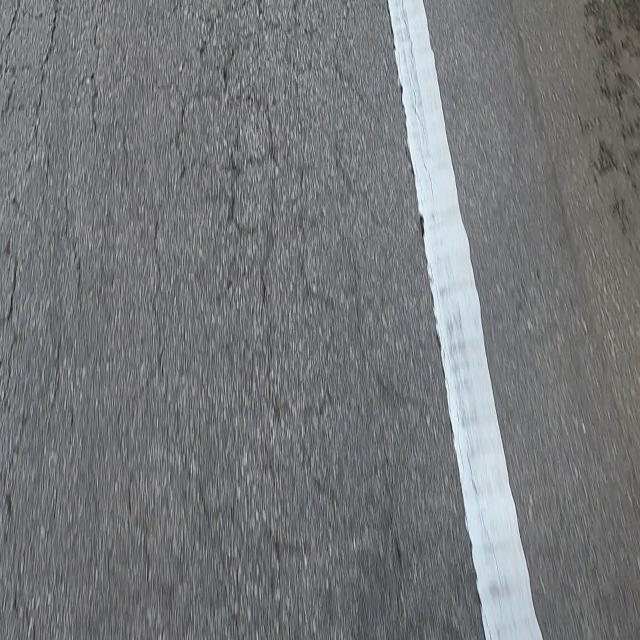Retak-Buaya: (0, 0, 428, 640)
Retak-Memanjang: (384, 0, 487, 640)
